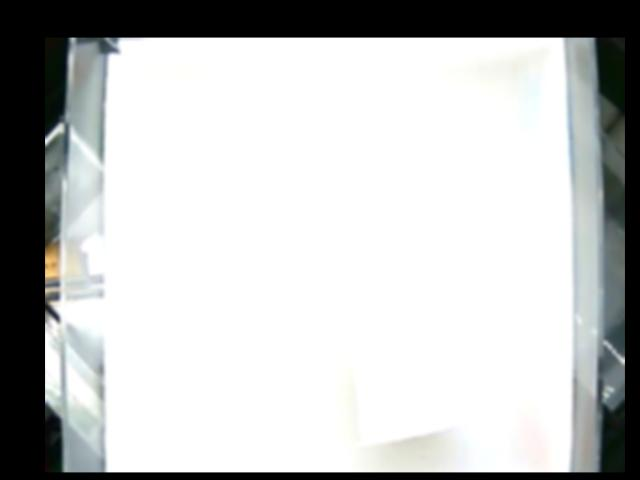Cup: (349, 290, 494, 445)
